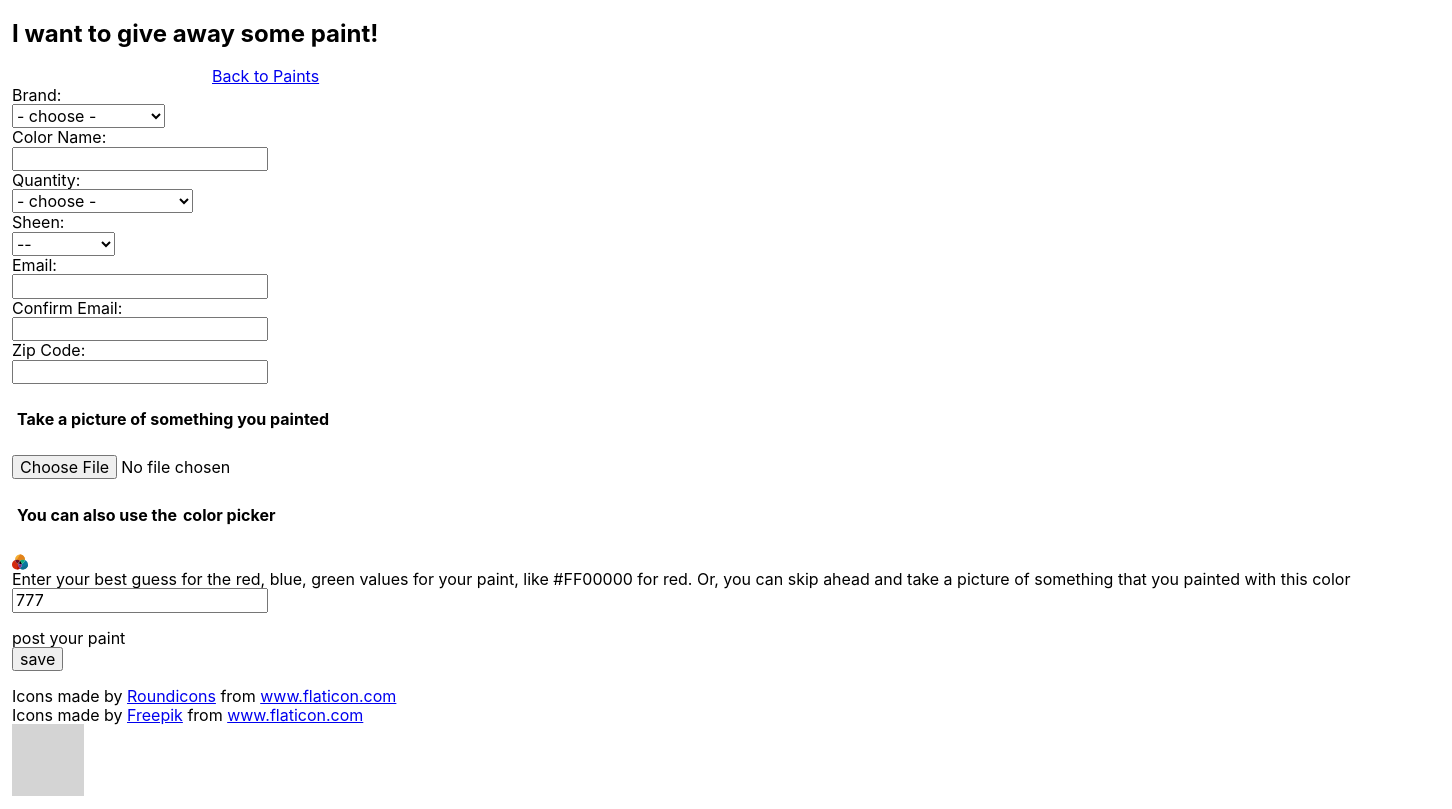
it: GiveAwayPaint form › Error messages when a single field is missing › shows missing zip code error
The image size is (1452, 809).
Step 1. Type "savage" into the field labelled "Color Name:" → coordinates (140, 159), box [12,147,268,171]
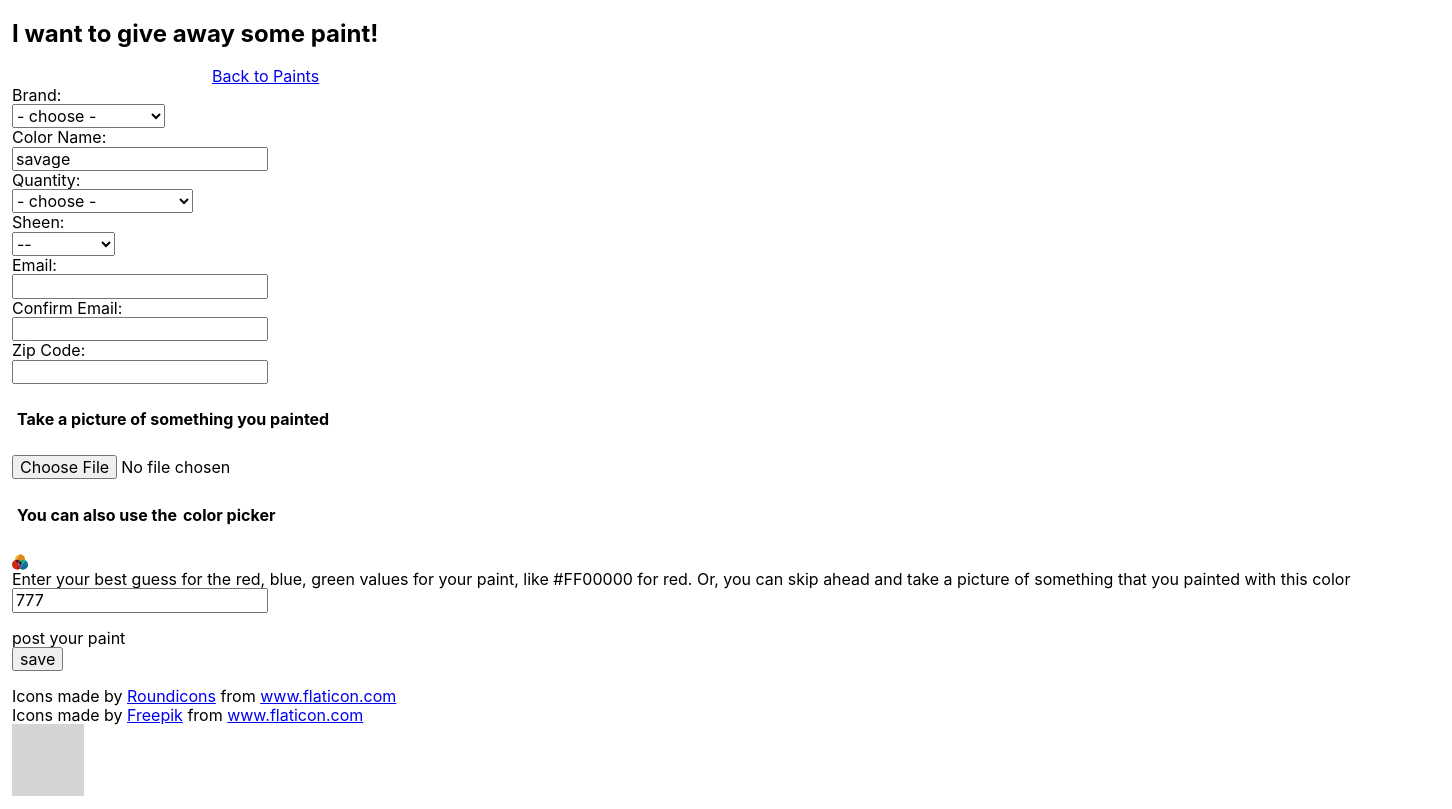
Step 2. Select "less than a gallon" in the dropdown labelled "Quantity:" → coordinates (102, 201), box [12,189,193,213]
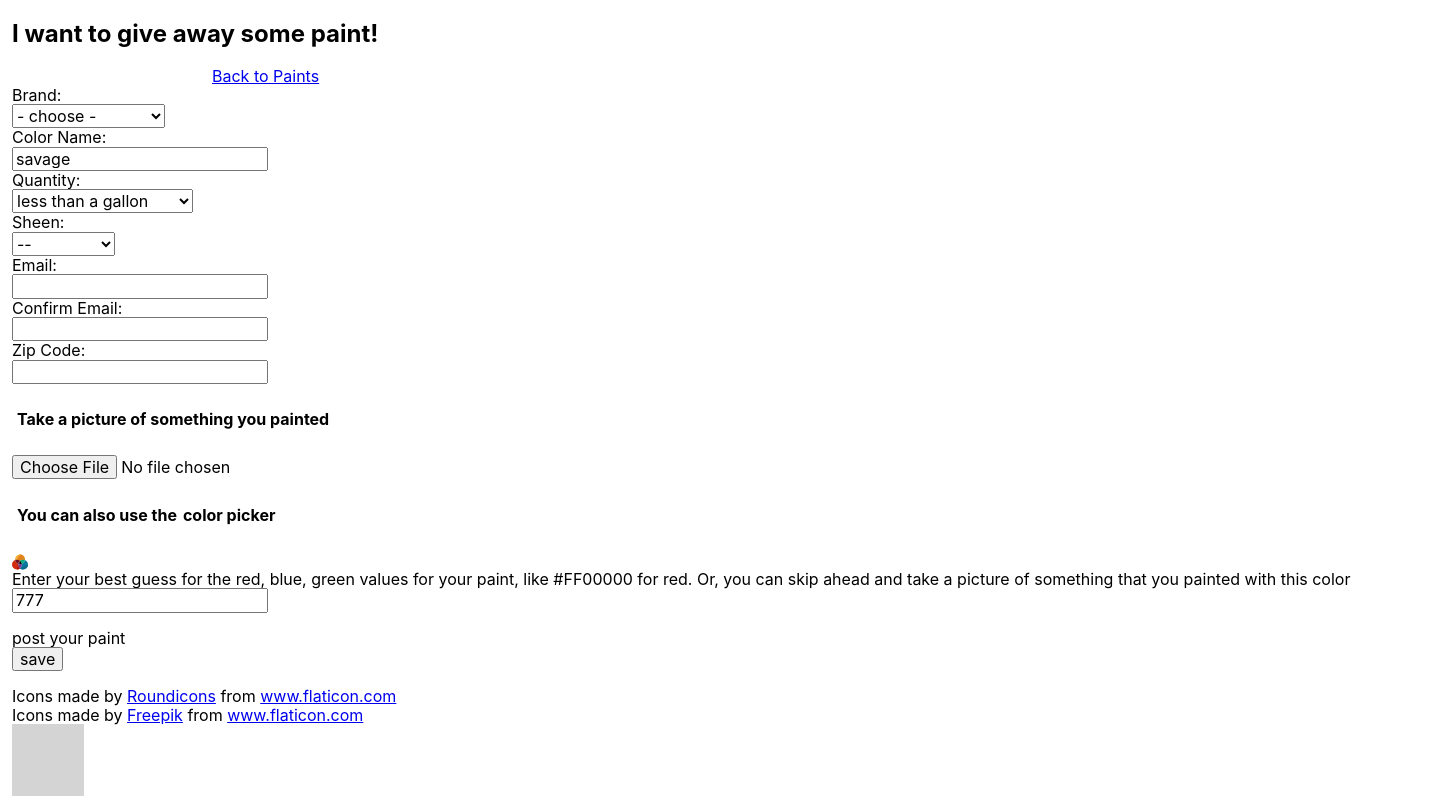
Step 3. Select "Behr" in the dropdown labelled "Brand:" → coordinates (88, 116), box [12,104,165,128]
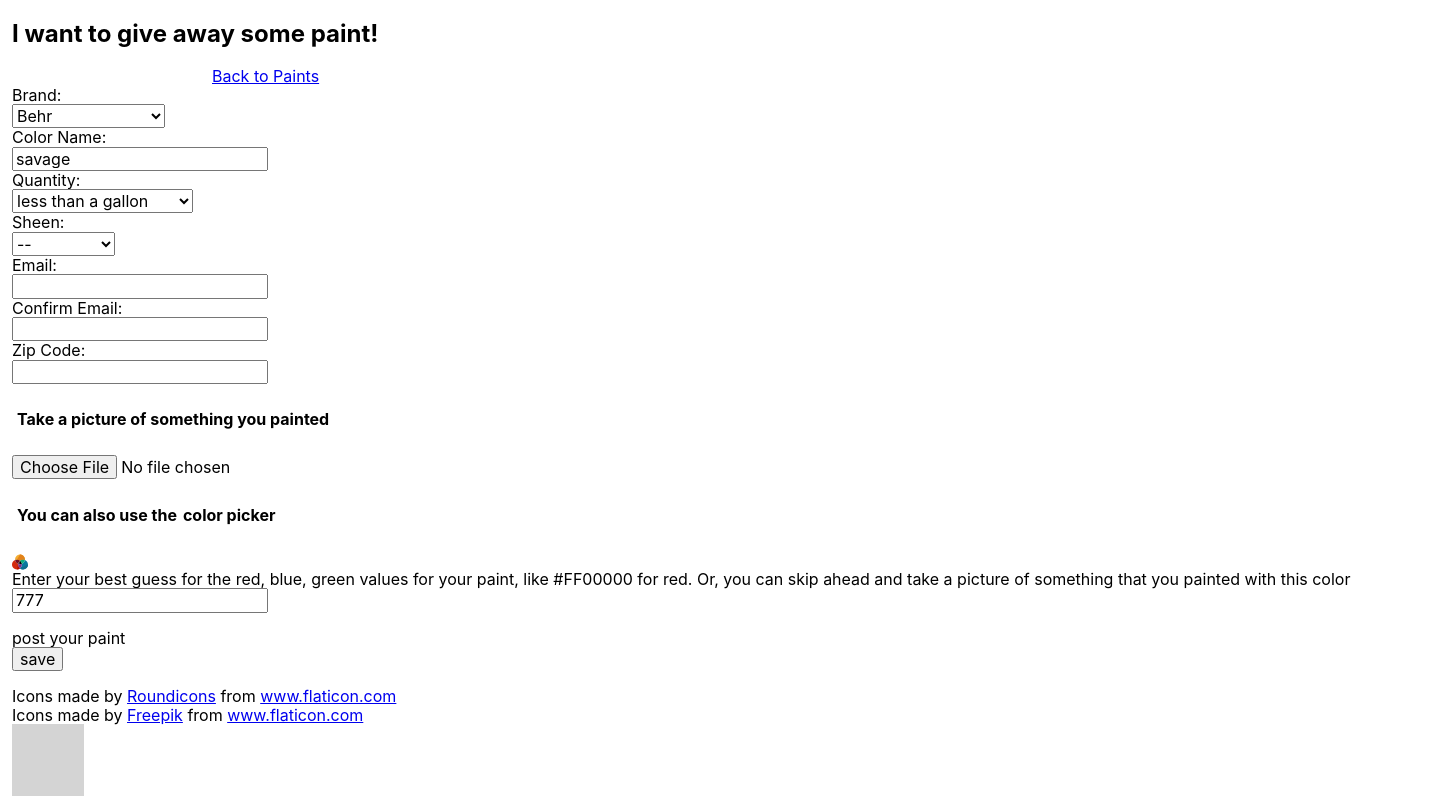
Step 4. Type "someString" into the field labelled "Email:" → coordinates (140, 286), box [12,274,268,298]
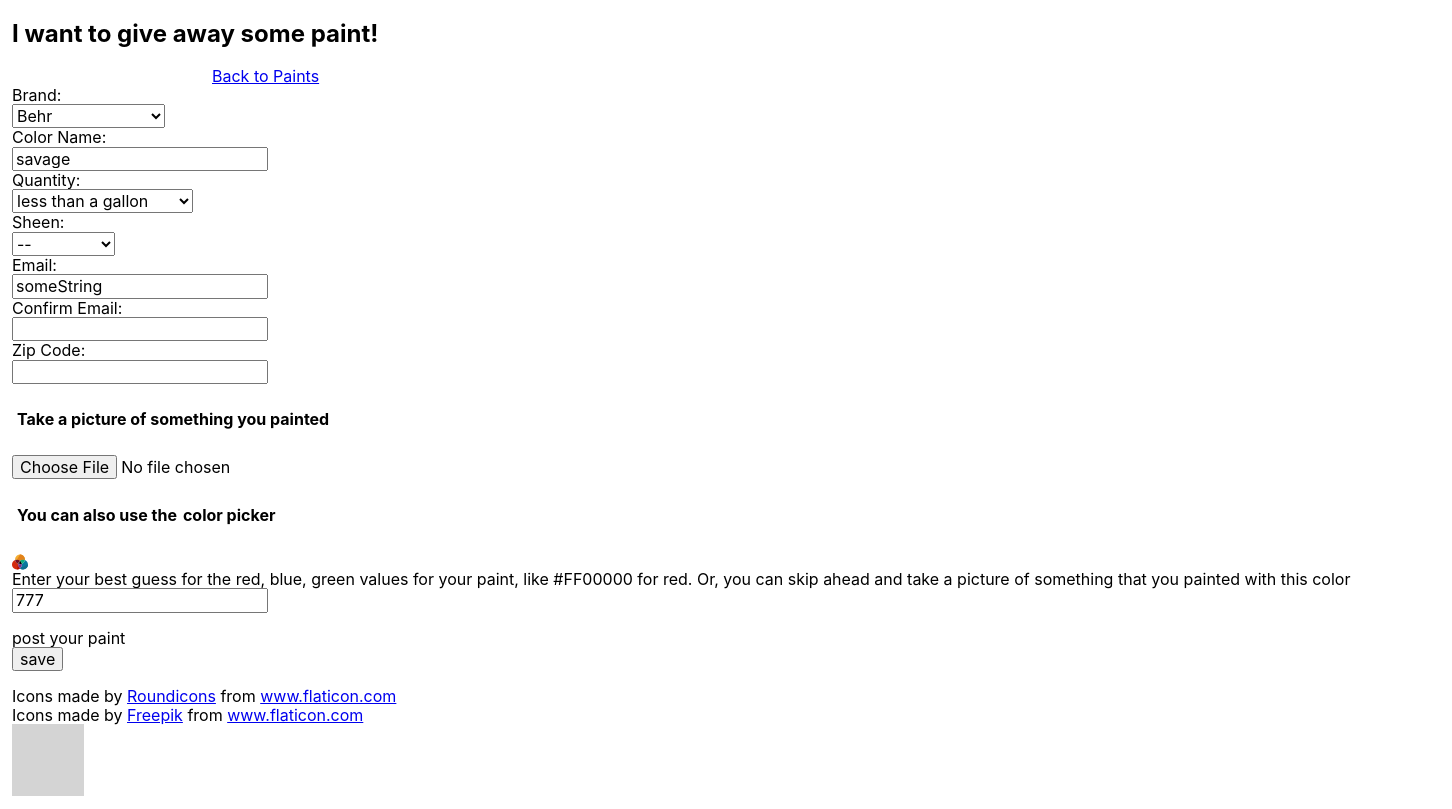
Step 5. Type "someString" into the field labelled "Confirm Email:" → coordinates (140, 329), box [12,317,268,341]
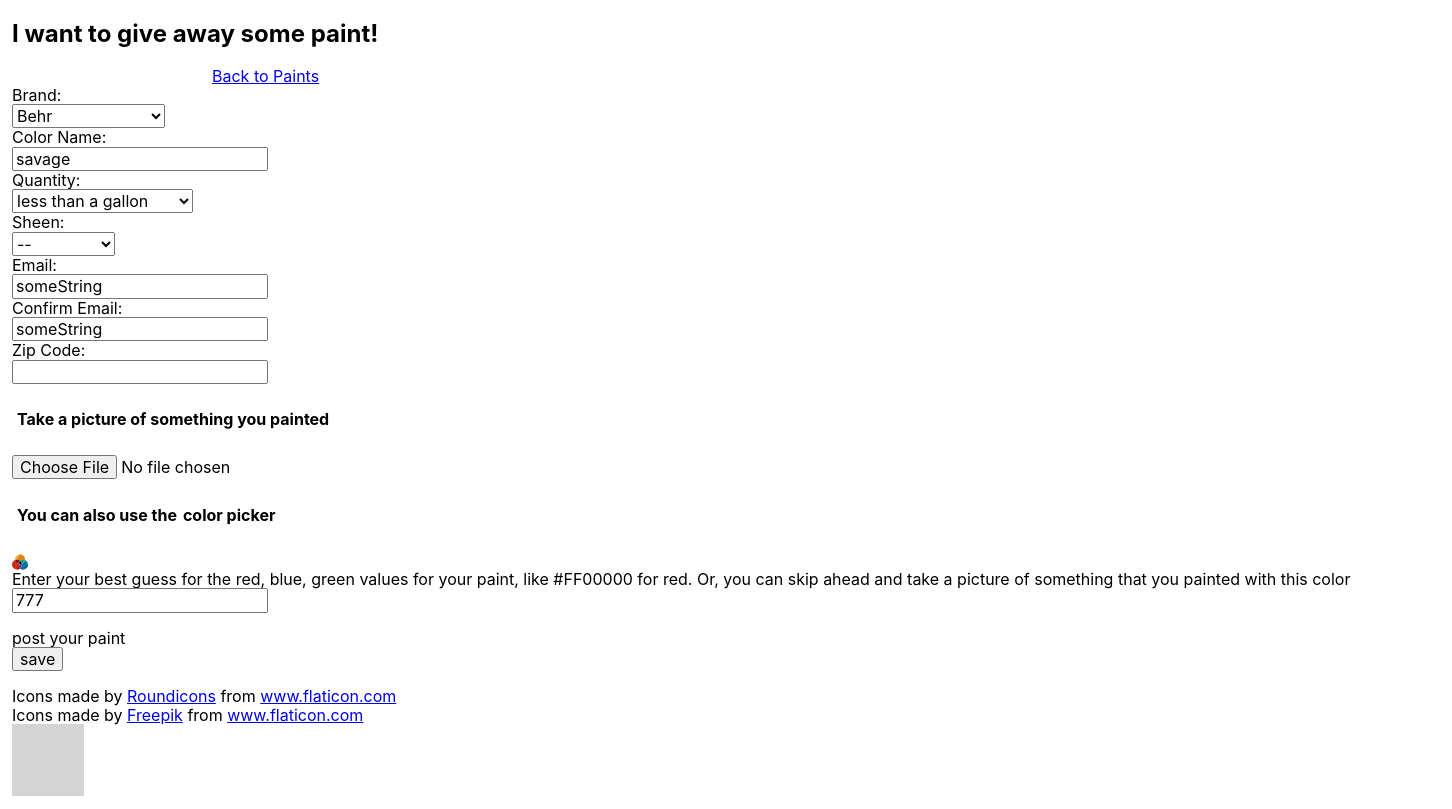
Step 6. Submit the form
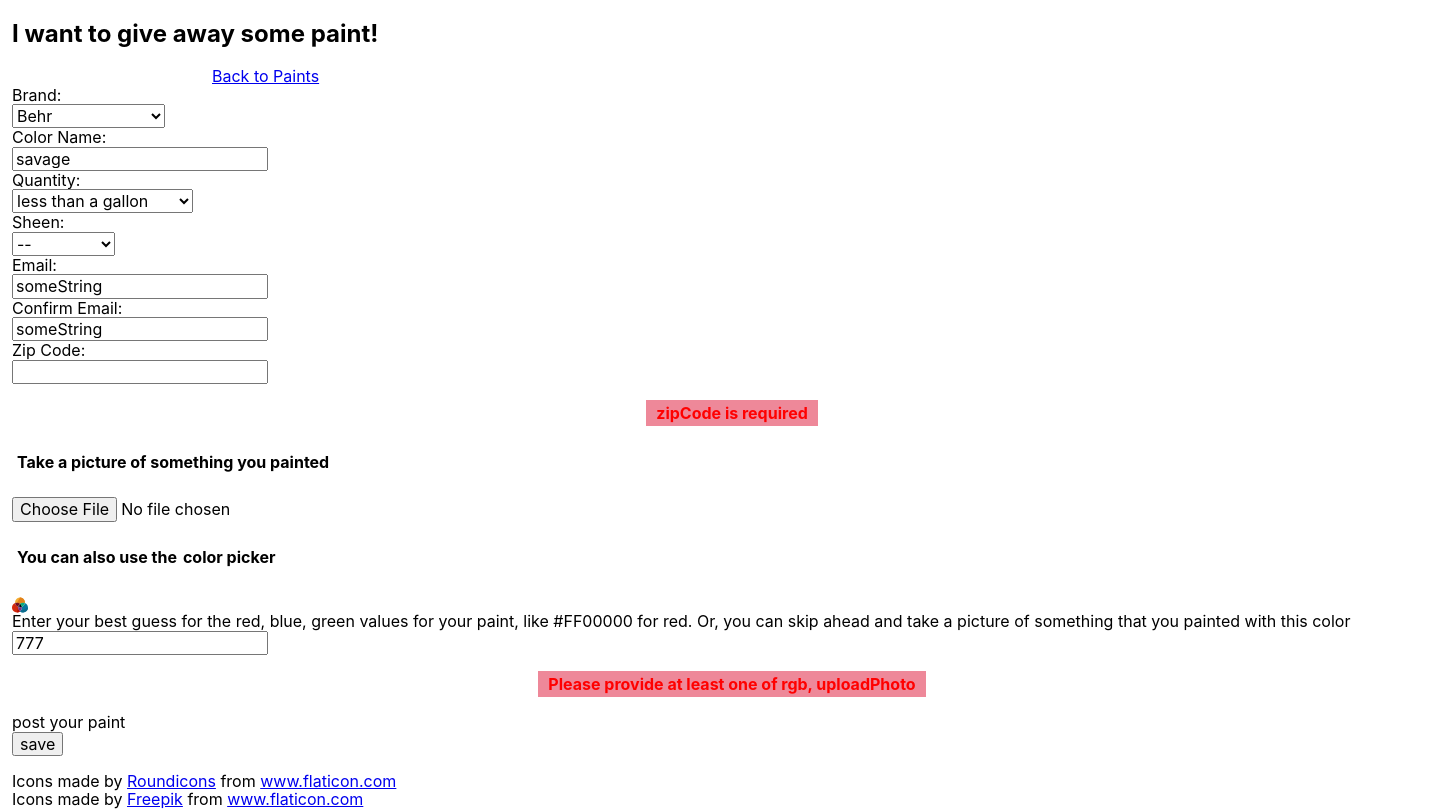
Expected: the text "zipCode is required" is shown, [646,400,818,426]
